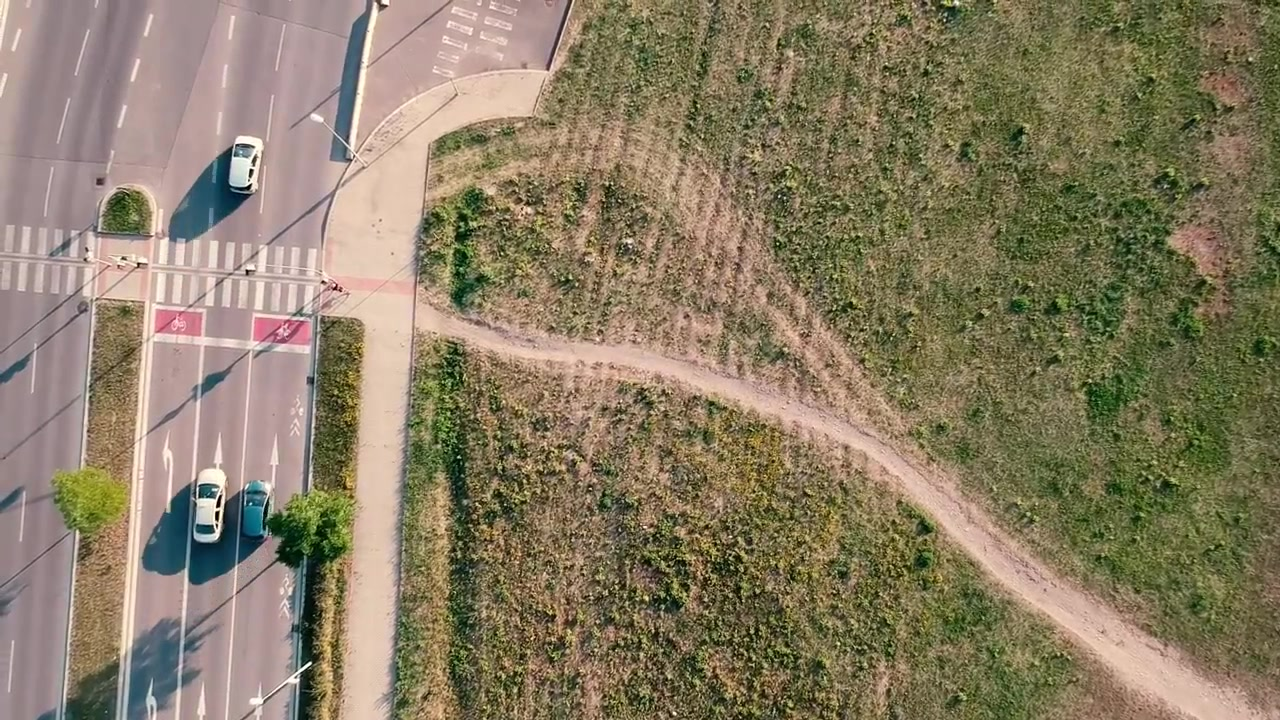car: (189, 467, 228, 545), (228, 133, 265, 198), (239, 478, 273, 543)
